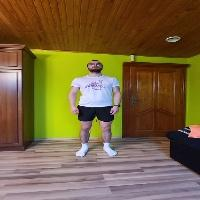high_jumps: (64, 54, 134, 165)
